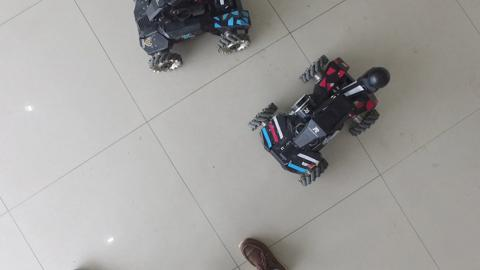chariot: (250, 49, 396, 192), (129, 1, 255, 82)
